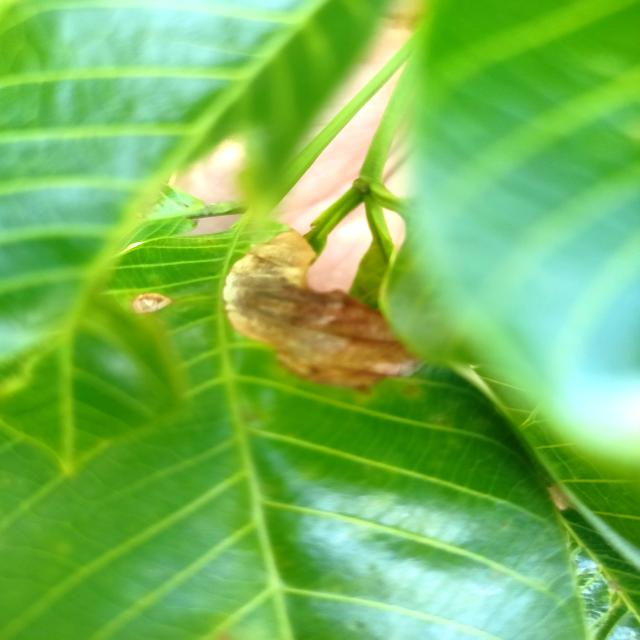Leaf-Blight: (225, 229, 417, 389), (132, 292, 172, 315)
